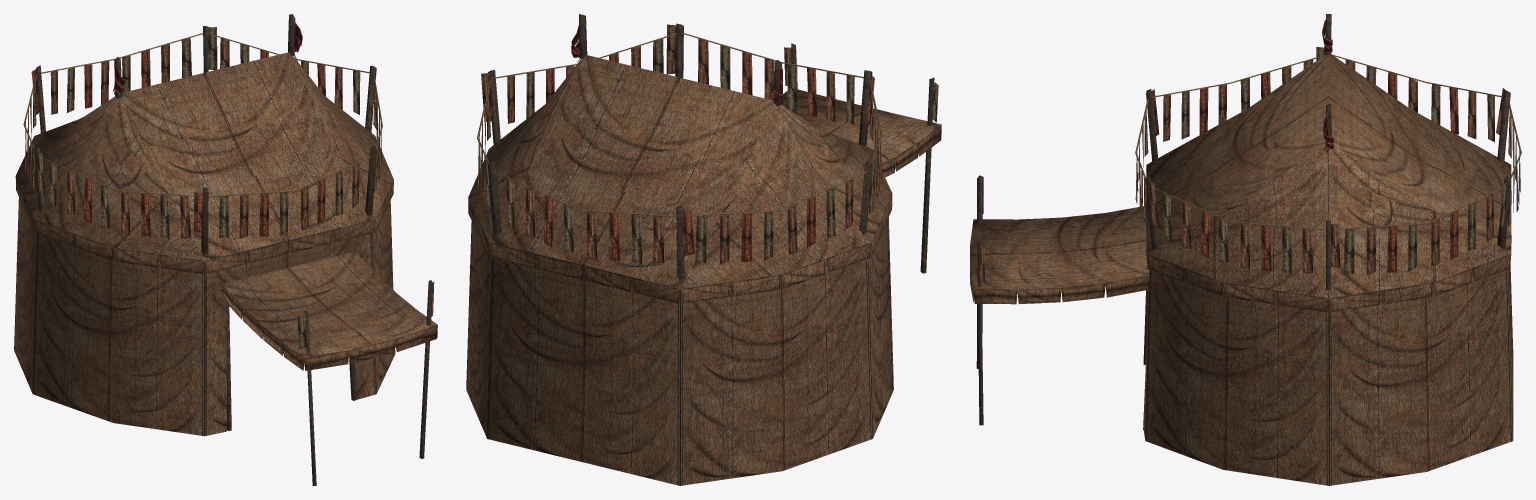
Rendered from GS_VARANT_TENT_02_GALI.glb.
3 renders of one model, left to right at view 1: azimuth 30°, elevation 25°; view 2: azimuth 150°, elevation 25°; view 3: azimuth 270°, elevation 25°, orthographic. The views are drawn at different scales.
Parts seen in each view (by area): view 1: Mesh; view 2: Mesh; view 3: Mesh.
Boxes of the visible parts, <box> form: Mesh: <box>14,14,437,485</box>; Mesh: <box>466,14,941,485</box>; Mesh: <box>970,14,1521,485</box>.
Size of the model in its own units: 10.31 by 9.04 by 13.37.
Materials: 1 (1 with a texture image).
